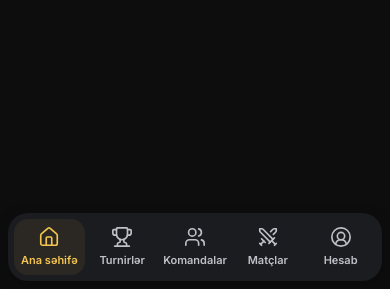
Test: mobile account navigation › does not invent team management permissions for an account without a team
Click the button with aria-label "hesab menyusu". click: (341, 247)
box: [305,219,376,275]
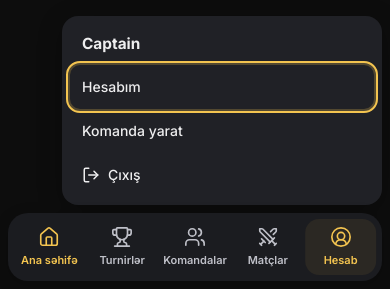
Expected: the link "Hesabım" is shown, [70,65,374,109]
Expected: the link "Komanda yarat" is shown, [82,122,183,139]
